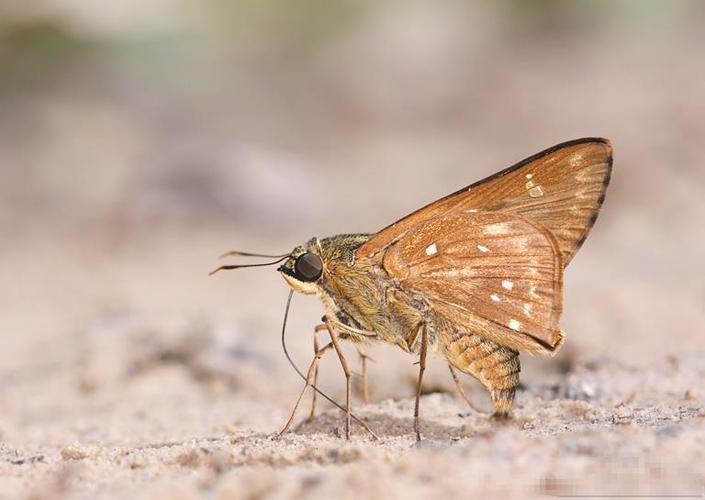Hesperiidae: (207, 137, 620, 446)
